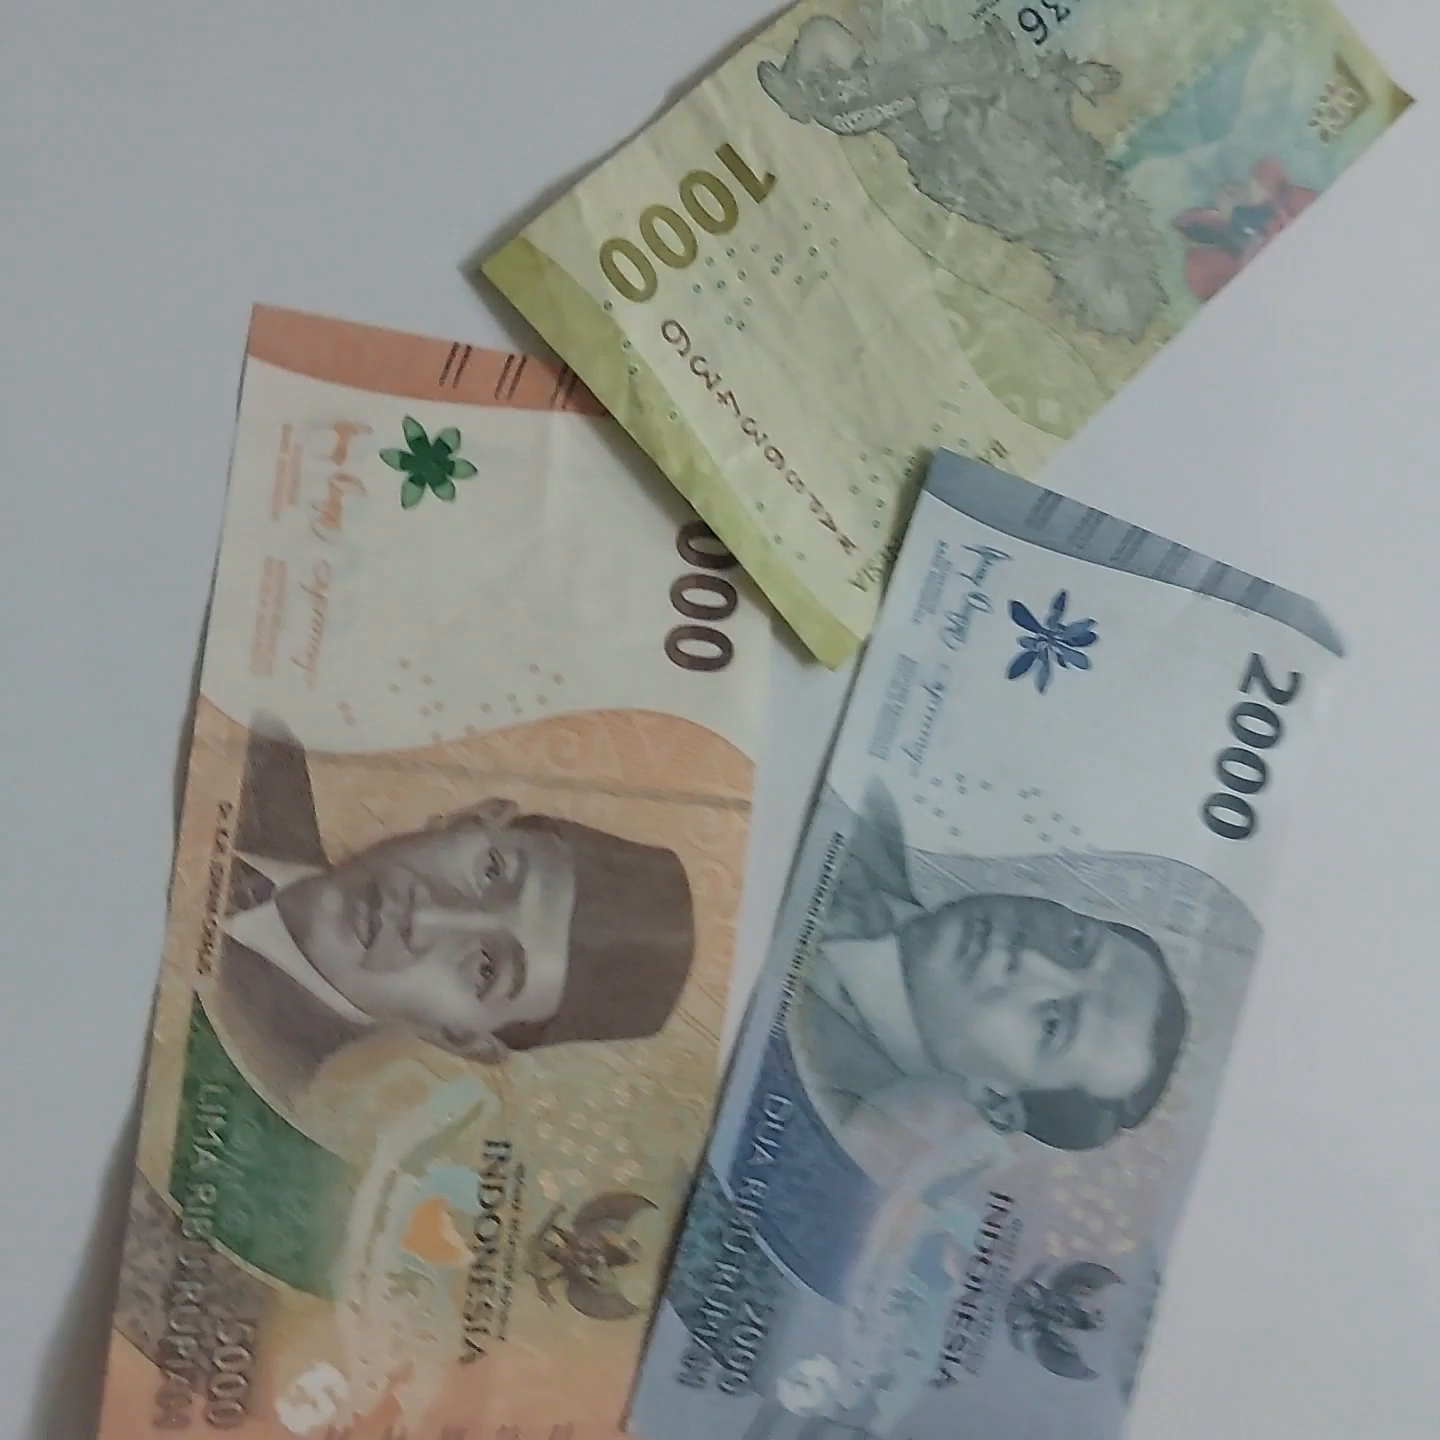1k: (455, 0, 1437, 666)
2k: (625, 448, 1370, 1440)
5k: (112, 223, 733, 1440)
